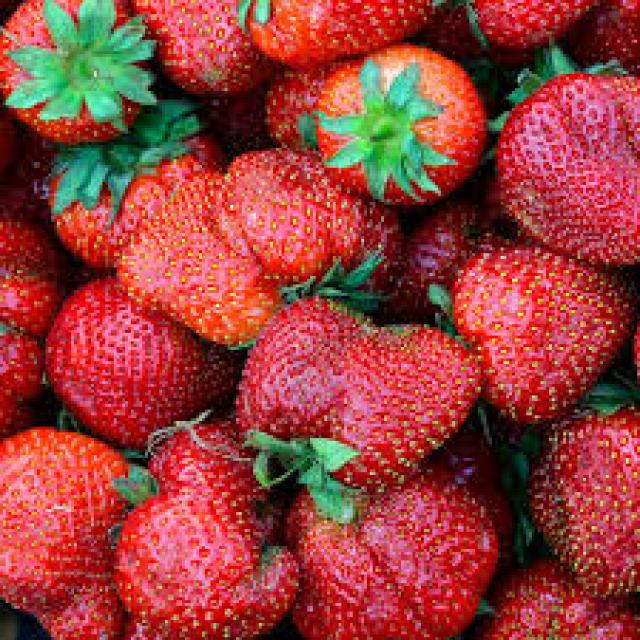Strawberries: (265, 300, 450, 476), (289, 482, 494, 640), (44, 272, 216, 449), (108, 492, 299, 640), (0, 429, 133, 640), (449, 250, 617, 409), (180, 167, 353, 303)
